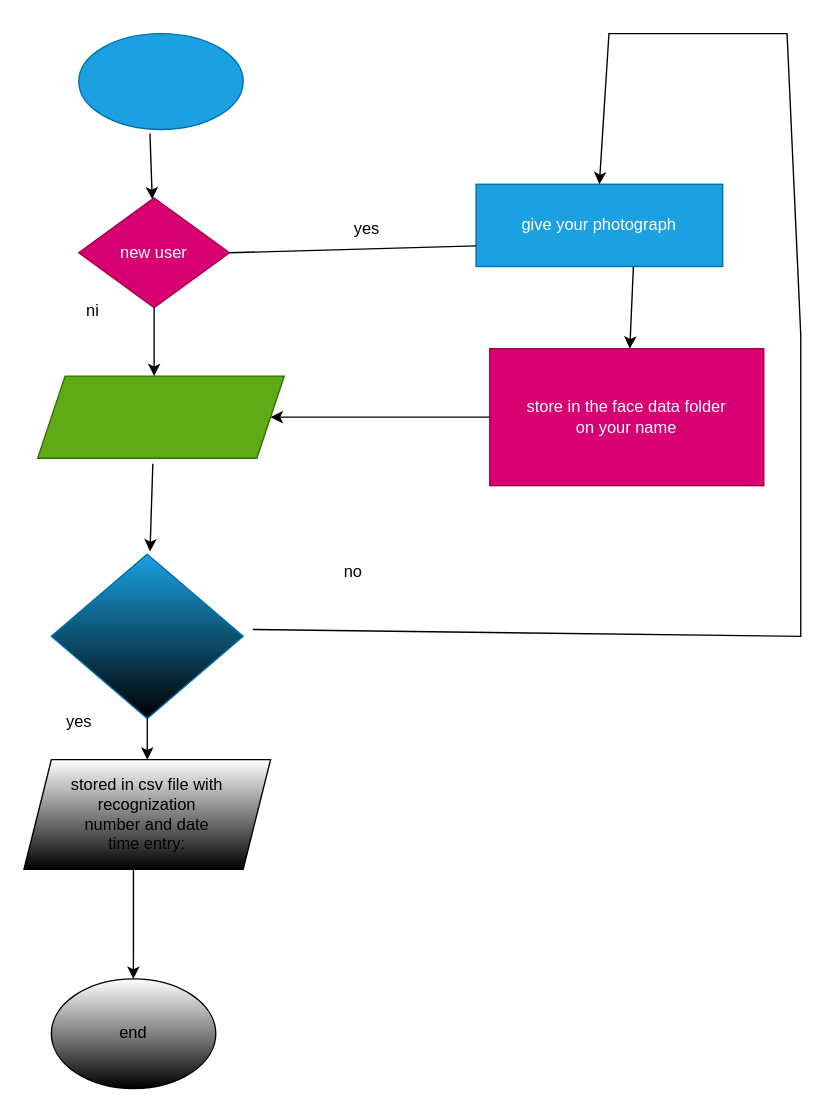
The diagram is 836 pixels wide and 1112 high, and some of its shapes have lost their labels. The centre of each missing label's shape, as x and y in pixels:
"face recognized" goes at [146,636].
"recognize the face" goes at [160,416].
"start" goes at [160,80].
